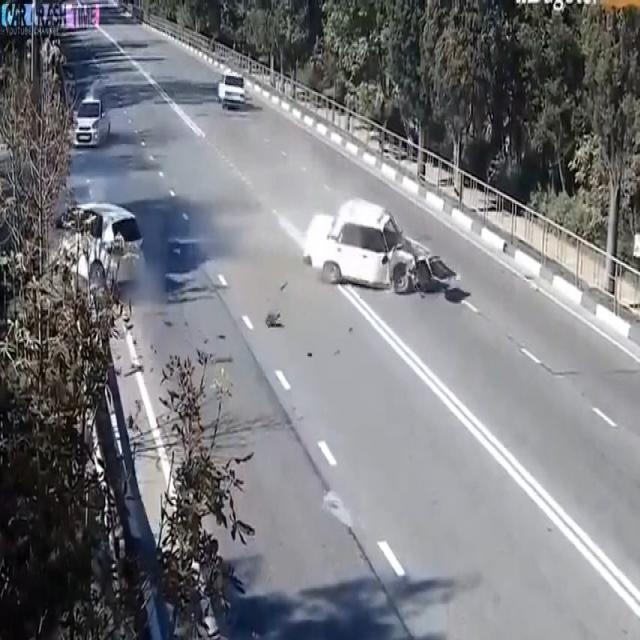Accident: (297, 174, 454, 336), (36, 159, 150, 343)
